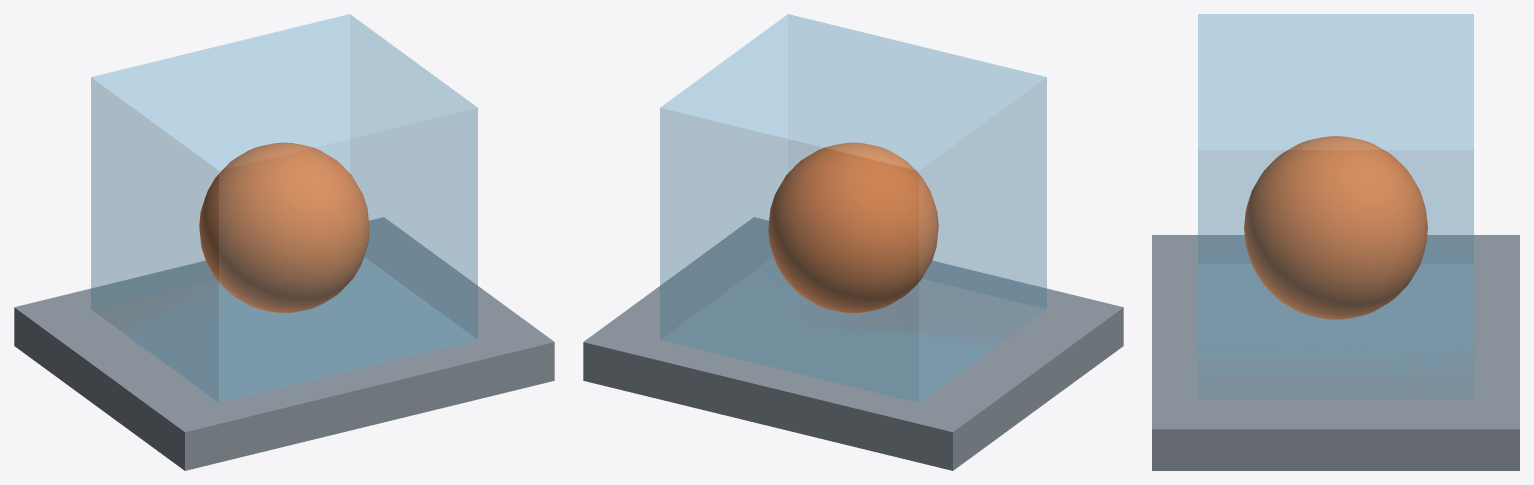
The model's file is material_opacity.glb.
The picture shows the model from 3 angles, left to right: view 1: azimuth 30°, elevation 25°; view 2: azimuth 150°, elevation 25°; view 3: azimuth 270°, elevation 25°; orthographic projection. The views are drawn at different scales.
Visible parts, largest first — view 1: cover, base, core; view 2: cover, base, core; view 3: cover, base, core.
Boxes of the visible parts, x1,y1,x2,y2 form: cover: (91,14,477,402); base: (14,217,554,470); core: (199,142,369,312); cover: (660,14,1046,402); base: (583,217,1123,470); core: (768,142,938,312); cover: (1198,14,1473,399); base: (1152,235,1519,470); core: (1244,136,1427,319).
Bounding box in the file's own units: 20 × 14 × 16.
